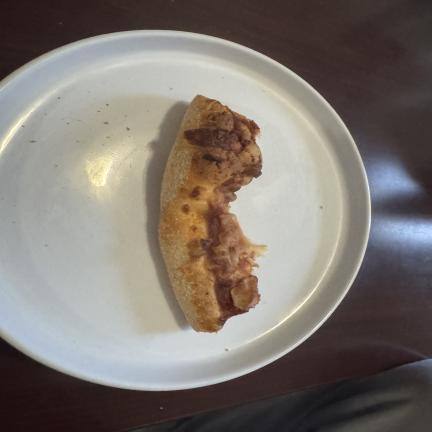pizza: (159, 96, 266, 332)
plate: (0, 31, 369, 390)
